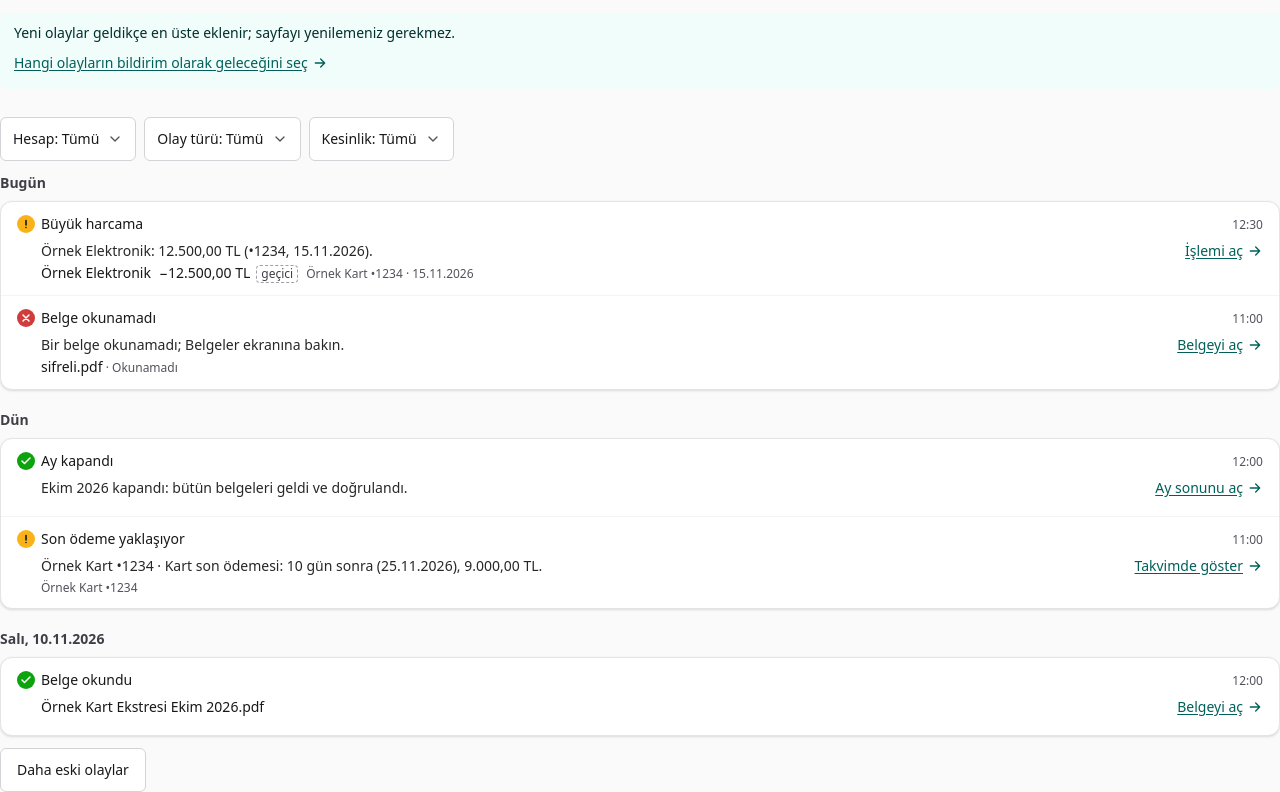
Test: FeedPage: the events › reads older events on request until the log has none left
(page scrolled)
Click the button "Daha eski olaylar" at point(73, 770), box [0, 748, 146, 791]
(page scrolled)
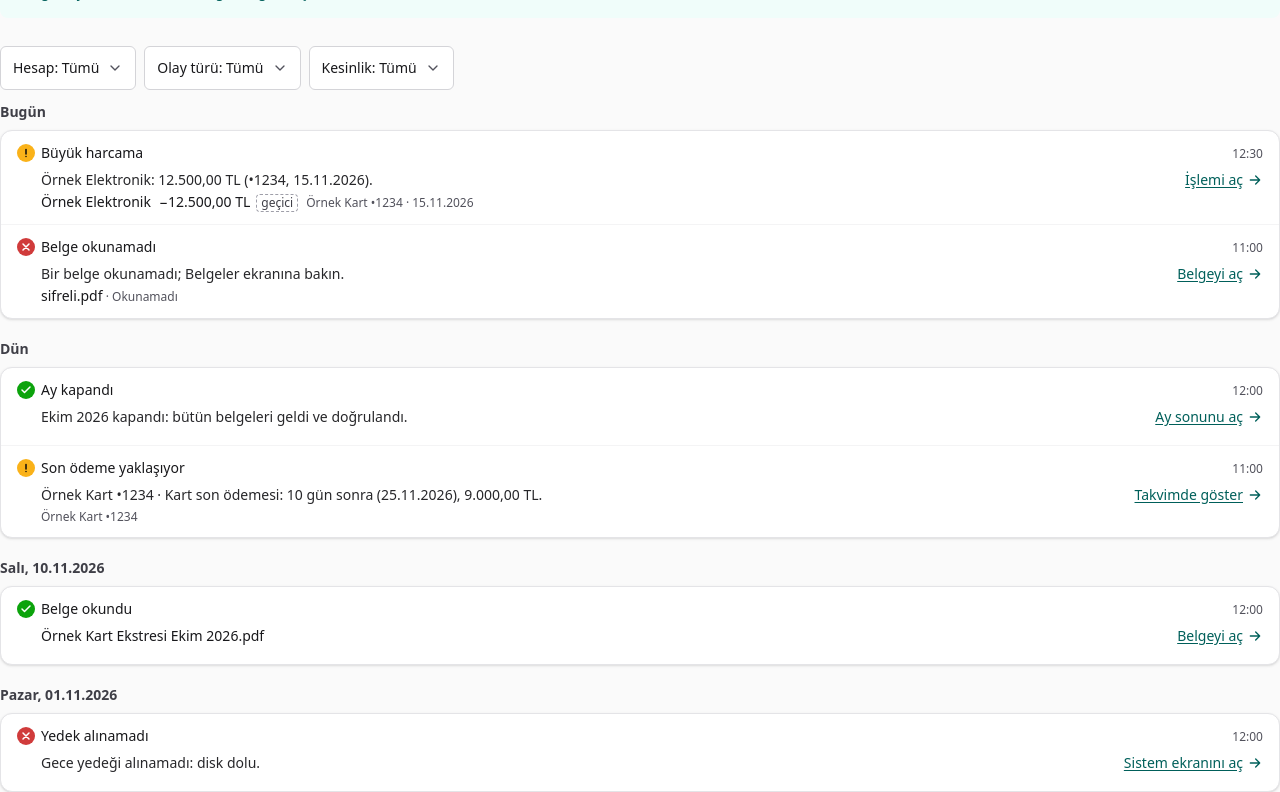
Result: the element "Yedek alınamadı" is shown at [17, 726, 1263, 772]
Result: the button "Daha eski olaylar" is gone
